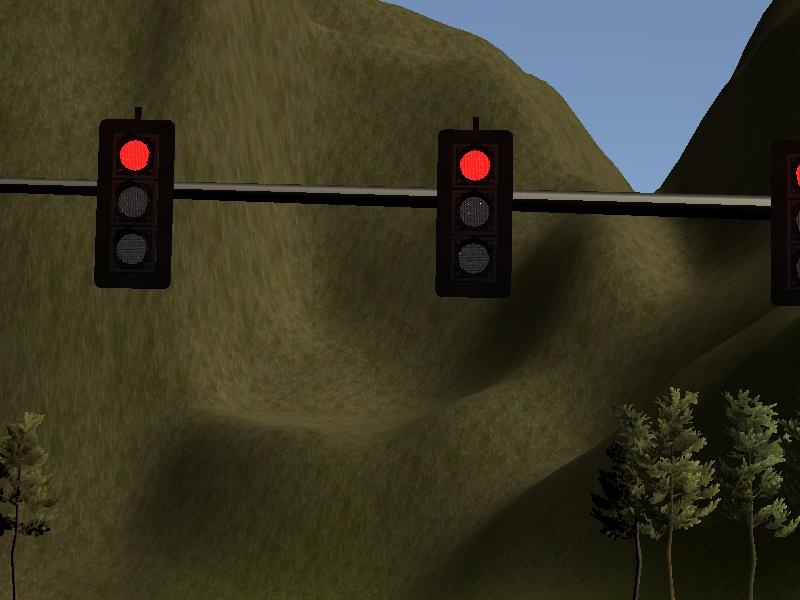RED: (93, 117, 175, 292), (435, 128, 513, 303)
